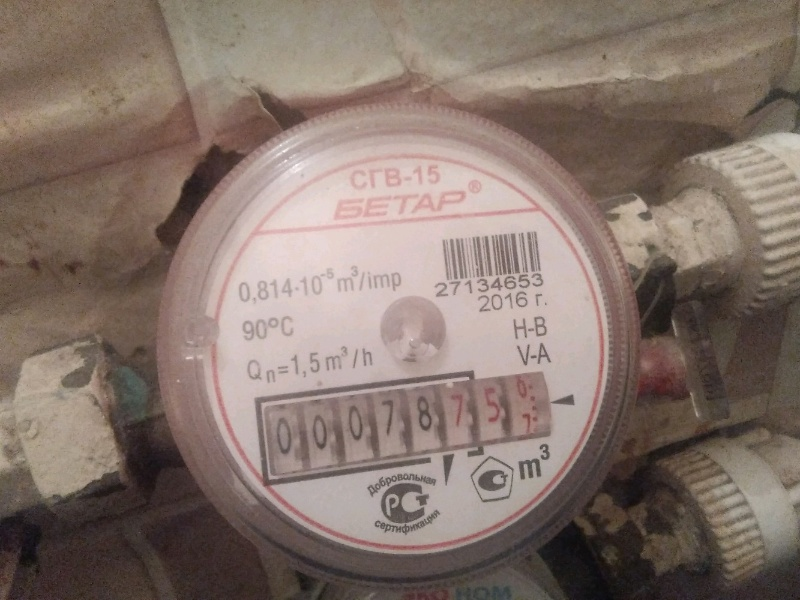meter: (264, 390, 552, 451)
